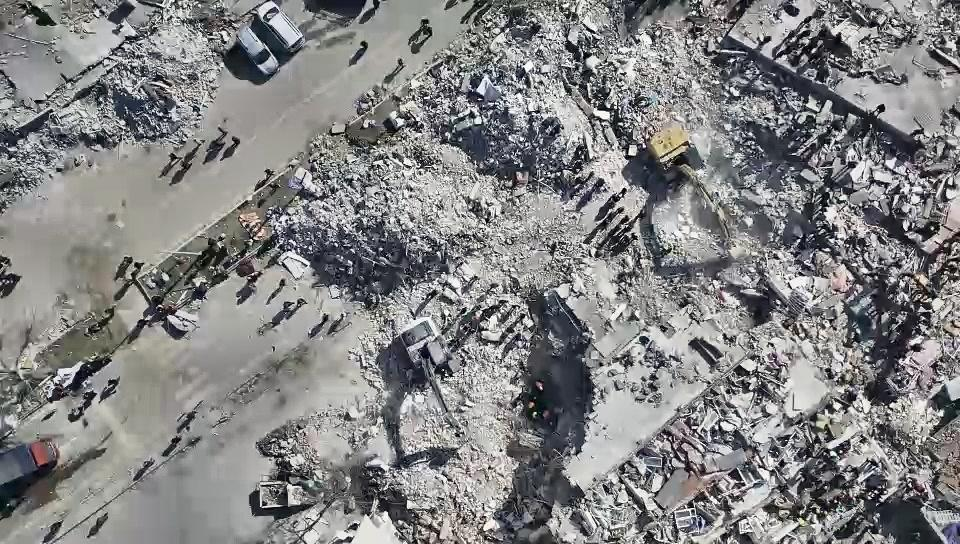kapali: (160, 0, 914, 541), (211, 0, 744, 370)
